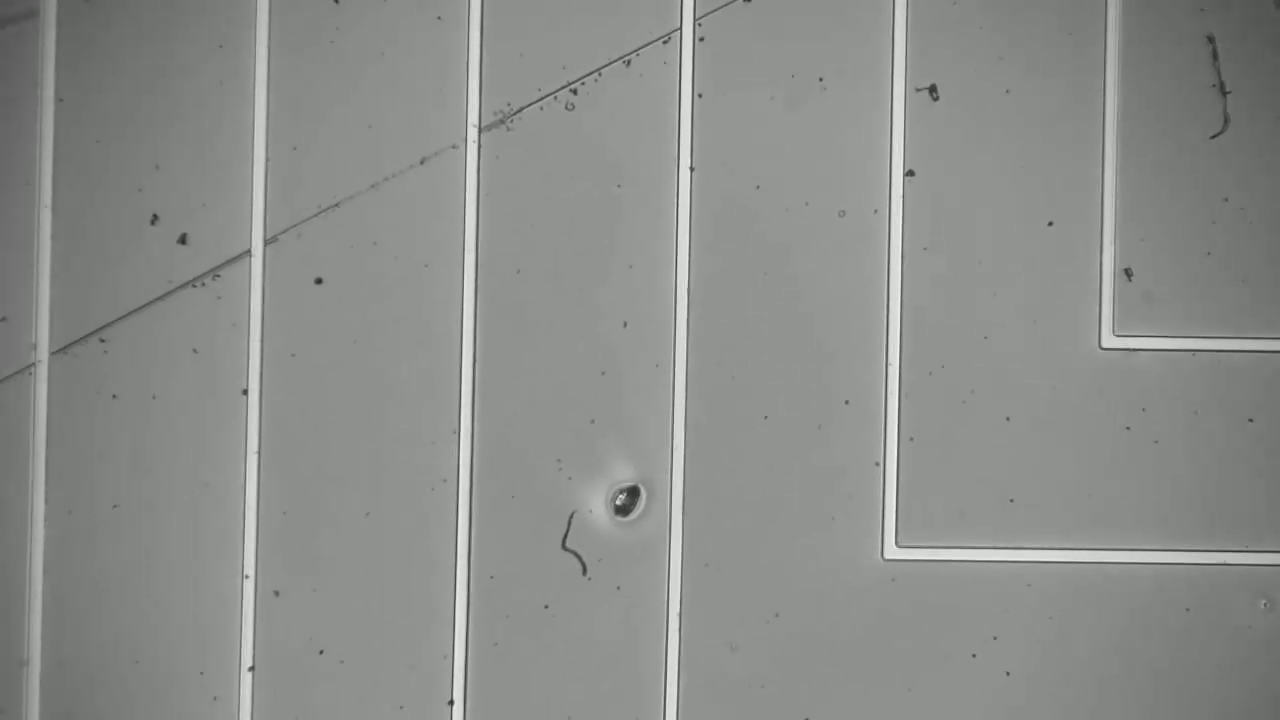scratch: (1, 1, 748, 381)
